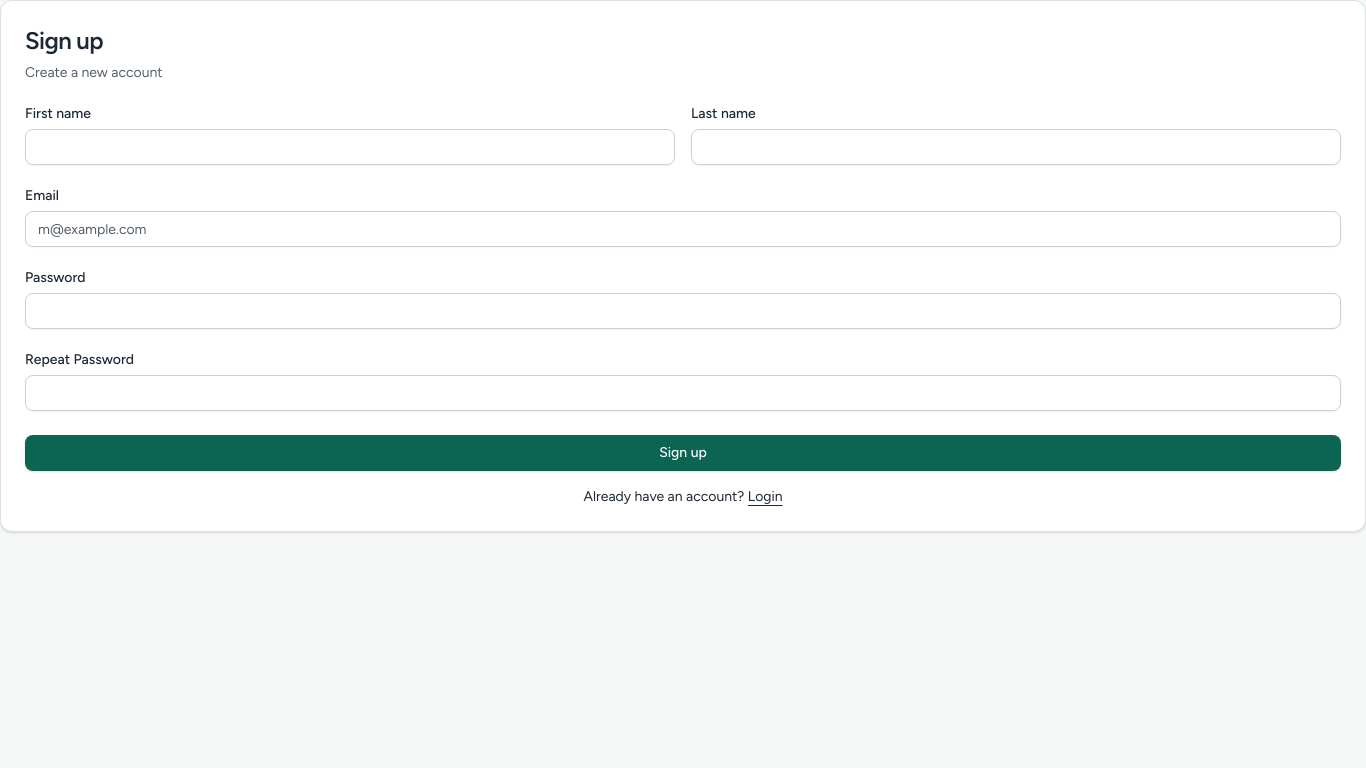
Scenario: SignUpForm › does not sign up when the passwords differ
Type "Ada" into the field labelled "First name" at {"x": 350, "y": 147}, box [25,129,675,165]
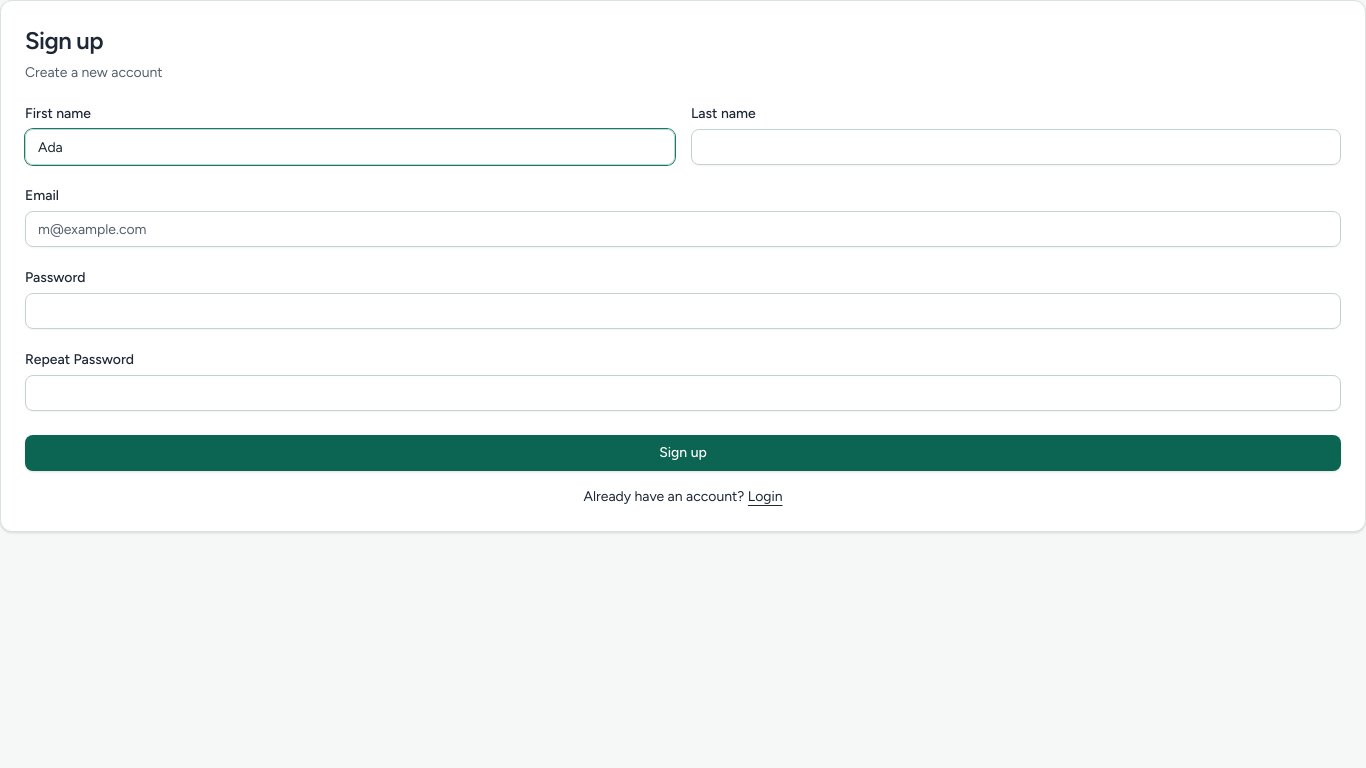
Type "Lovelace" into the field labelled "Last name" at {"x": 1016, "y": 147}, box [691,129,1341,165]
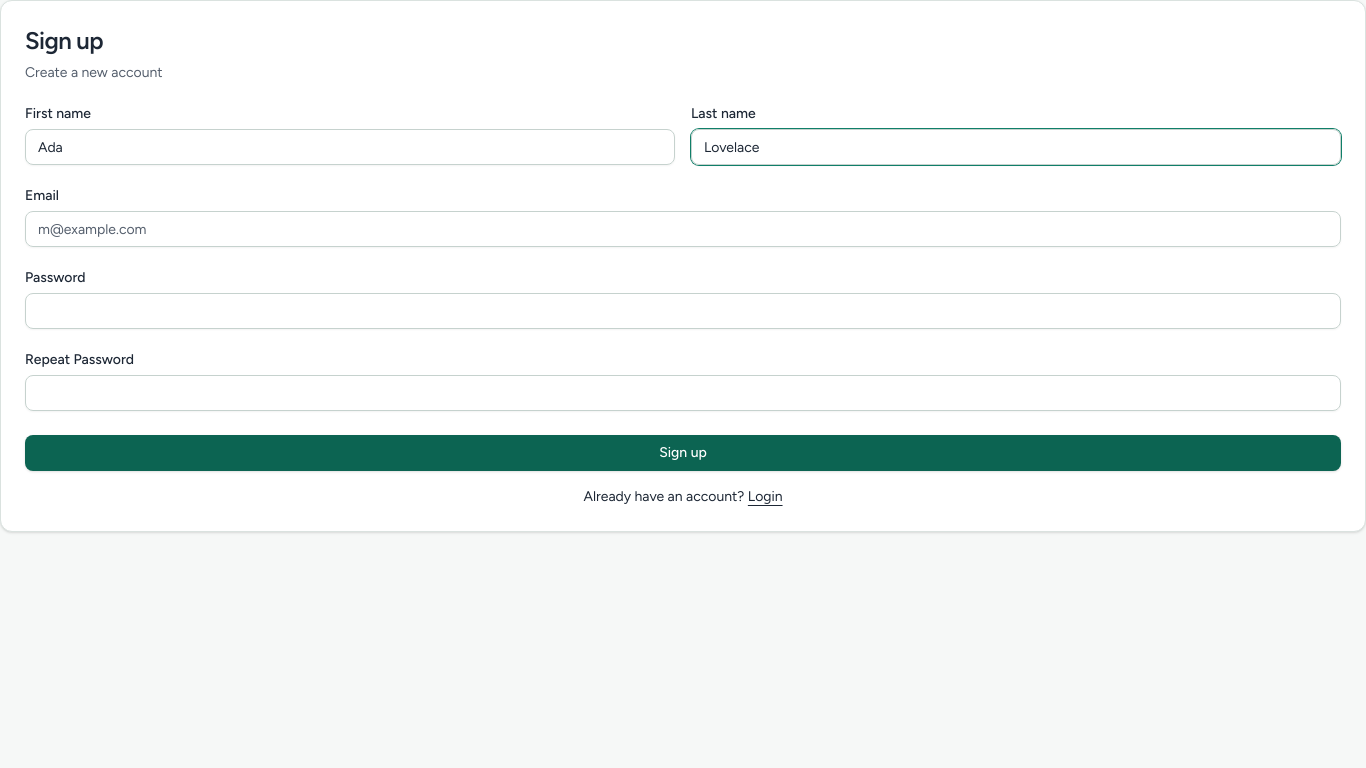
Type "ada@example.com" into the field labelled "Email" at {"x": 683, "y": 229}, box [25,211,1341,247]
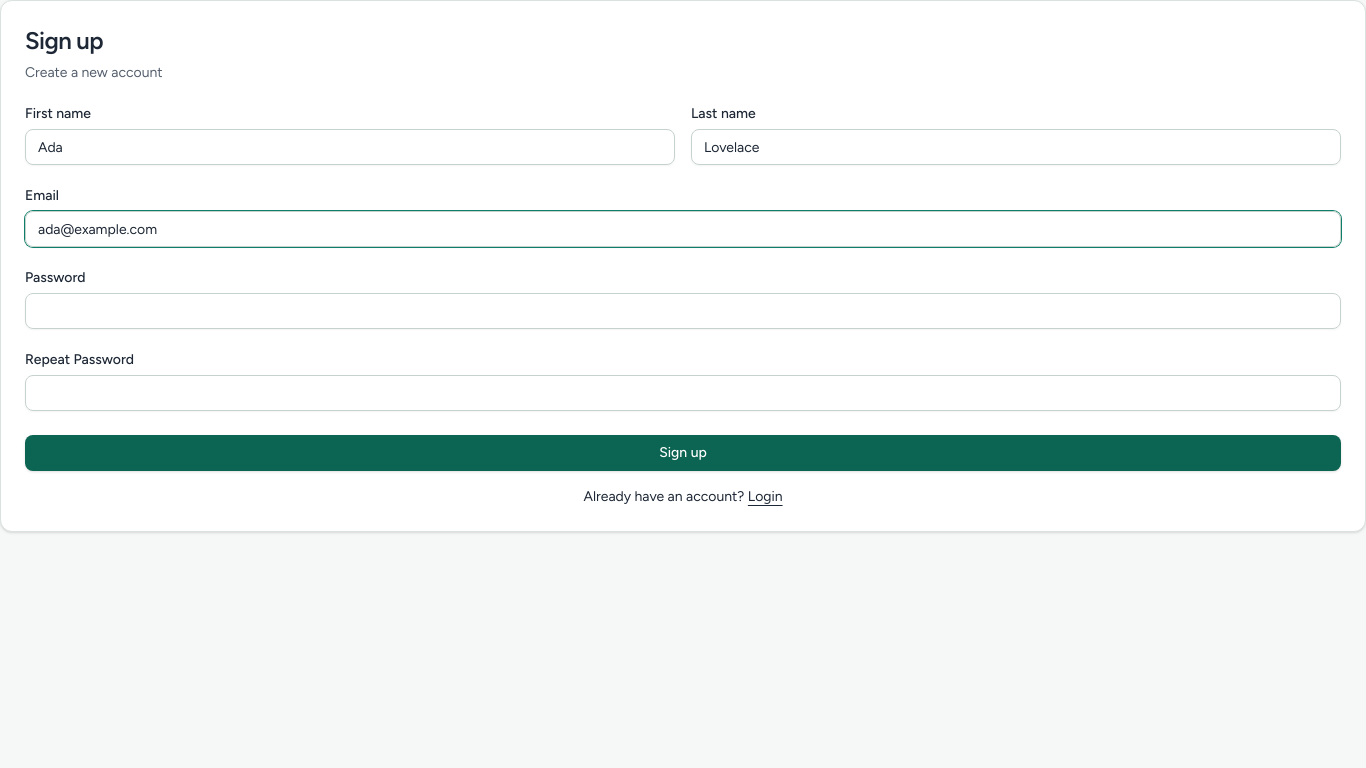
Type "abc12345" into the password field labelled "Password" at {"x": 683, "y": 311}, box [25,293,1341,329]
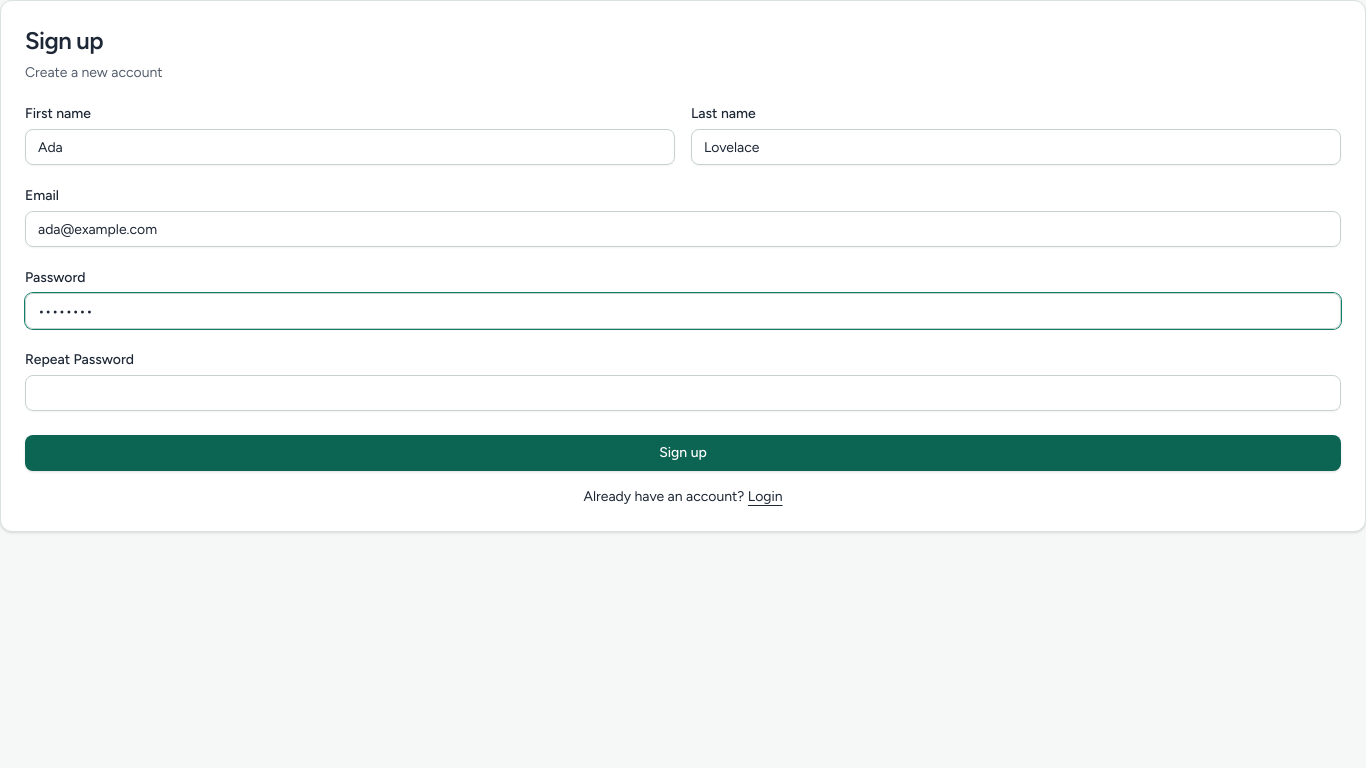
Type "different1" into the password field labelled "Repeat Password" at {"x": 683, "y": 393}, box [25,375,1341,411]
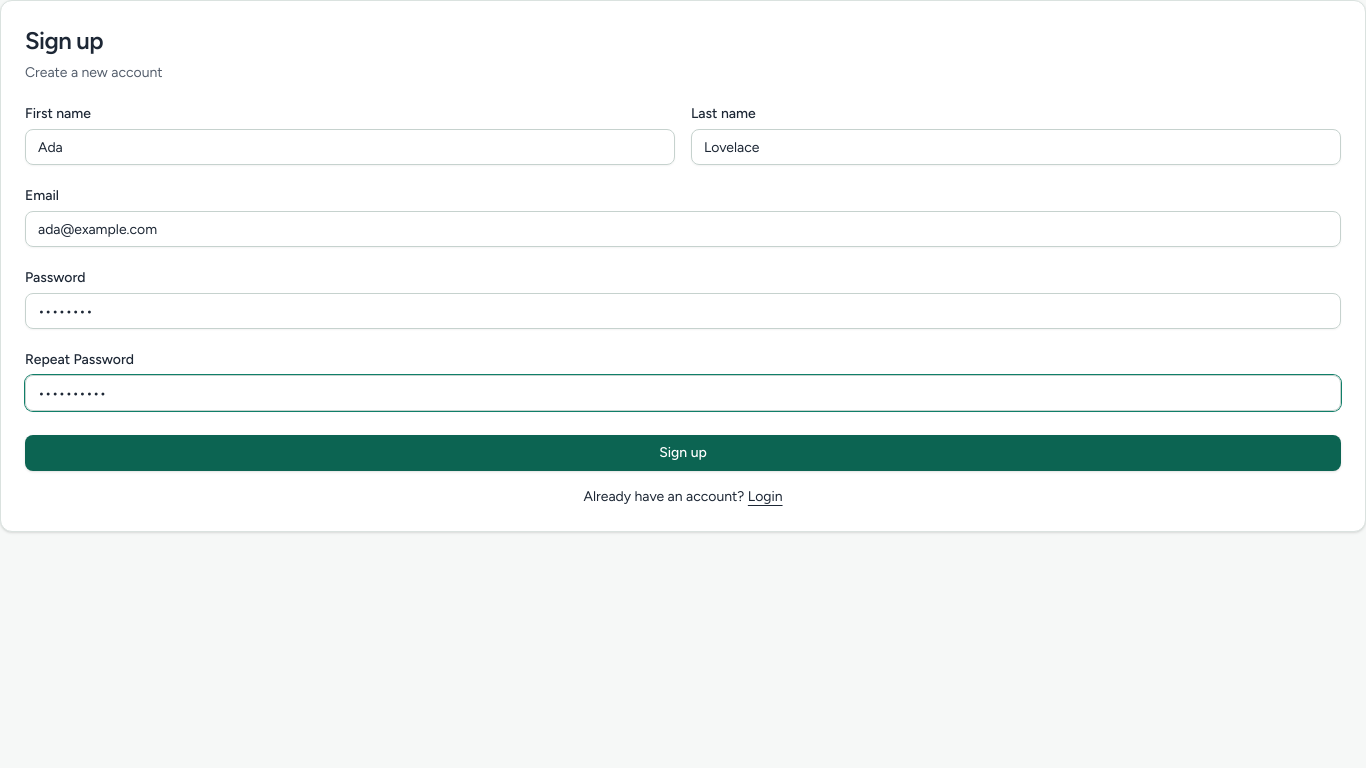
Click the button "Sign up" at {"x": 683, "y": 453}, box [25,435,1341,471]
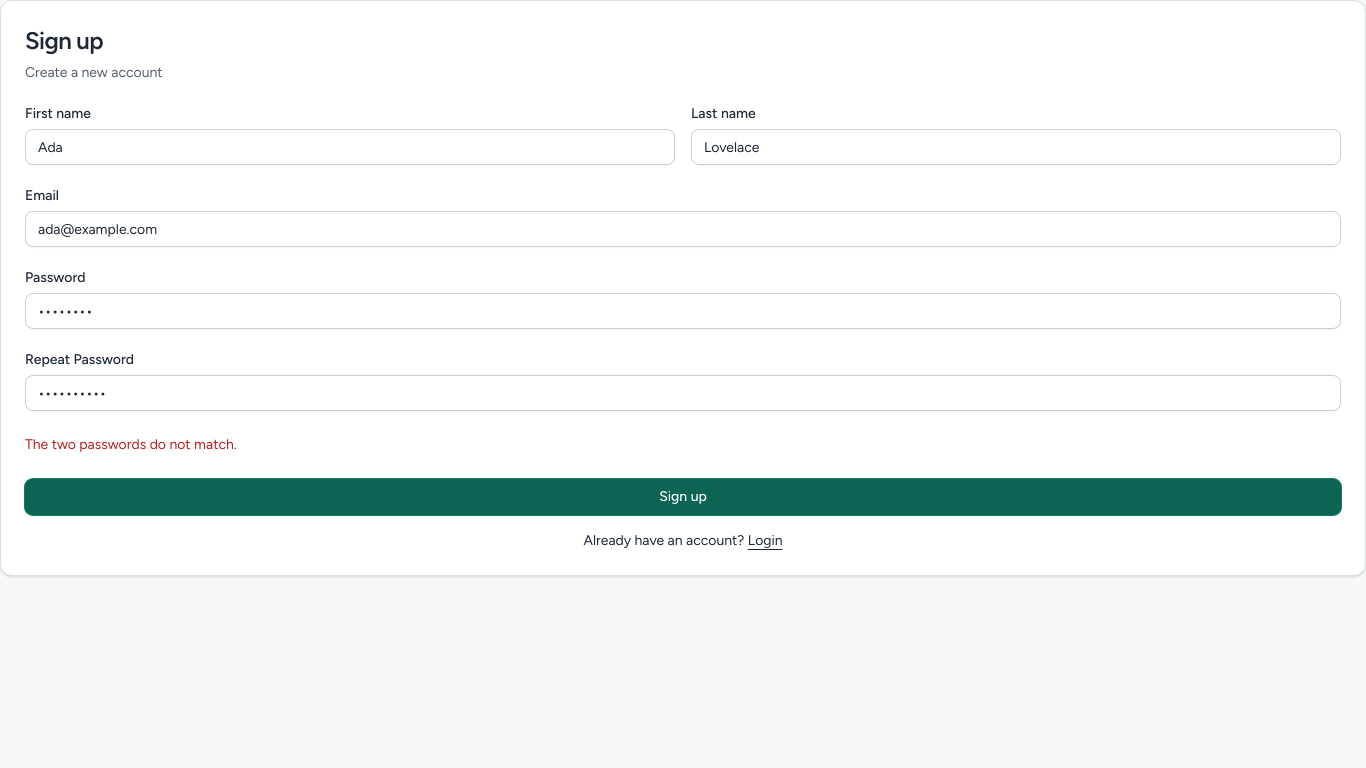
Now the message reads "The two passwords do not match.", box [25,436,237,453]
